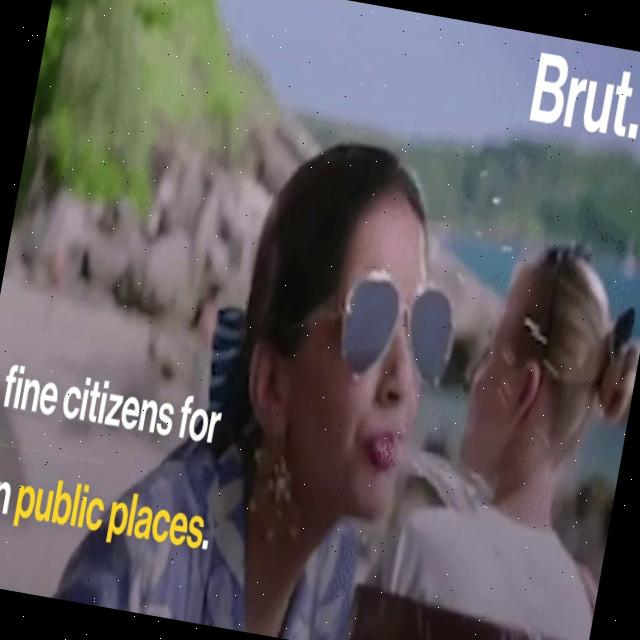spit: (298, 380, 567, 640)
